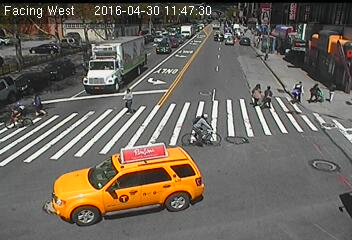neg: (187, 109, 219, 152), (323, 183, 349, 217), (7, 98, 31, 130), (99, 186, 122, 217), (279, 151, 295, 172), (199, 174, 213, 194), (276, 43, 290, 61), (12, 166, 25, 183), (179, 23, 190, 38), (147, 26, 158, 41), (81, 34, 92, 49), (18, 30, 29, 44), (304, 58, 315, 72), (258, 35, 267, 47), (228, 33, 237, 44), (178, 52, 186, 63)
pos: (118, 86, 139, 115), (289, 79, 309, 105), (27, 90, 46, 117), (248, 82, 267, 107), (261, 85, 279, 109), (325, 80, 342, 103), (309, 82, 325, 103)
